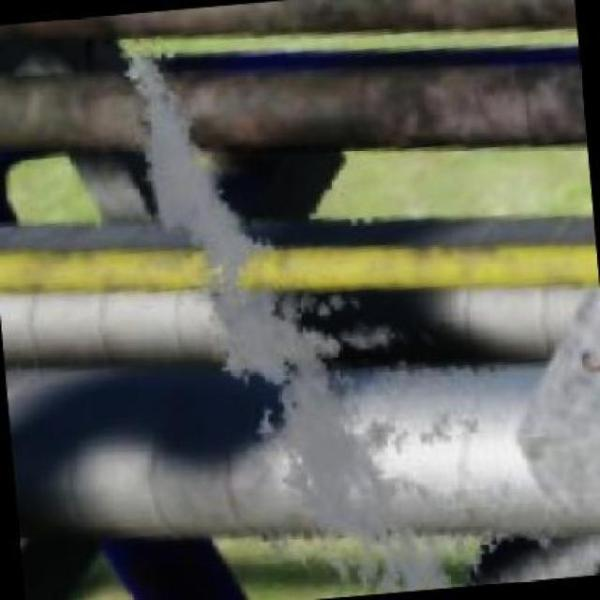gas: (115, 38, 392, 398)
